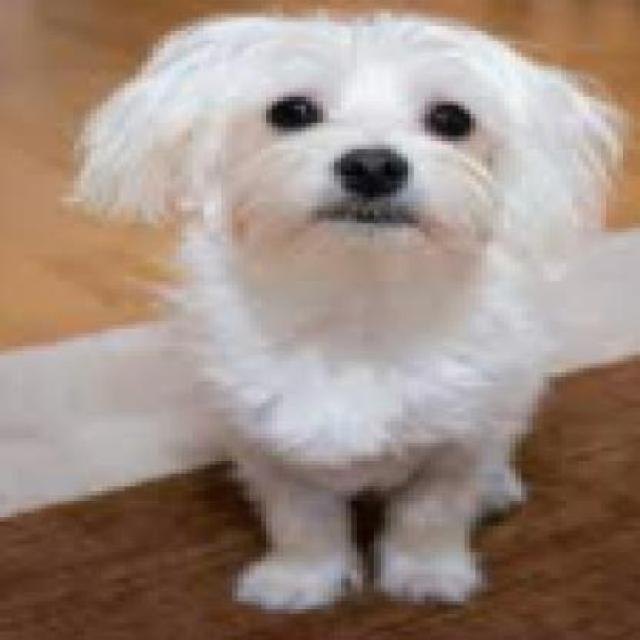Dog: (57, 4, 634, 618)
